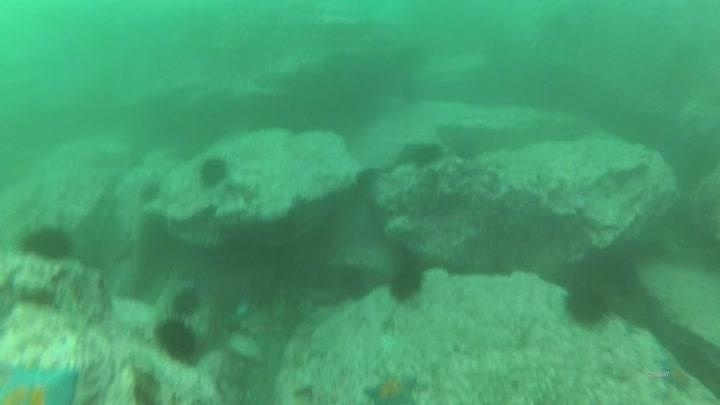echinus: (153, 315, 202, 365), (18, 223, 76, 263), (563, 283, 612, 328), (386, 261, 427, 305), (137, 211, 174, 254), (397, 139, 445, 171), (195, 155, 232, 191), (169, 285, 204, 318), (137, 178, 165, 206)
starfish: (0, 359, 83, 404), (362, 369, 421, 405), (656, 354, 695, 393)
